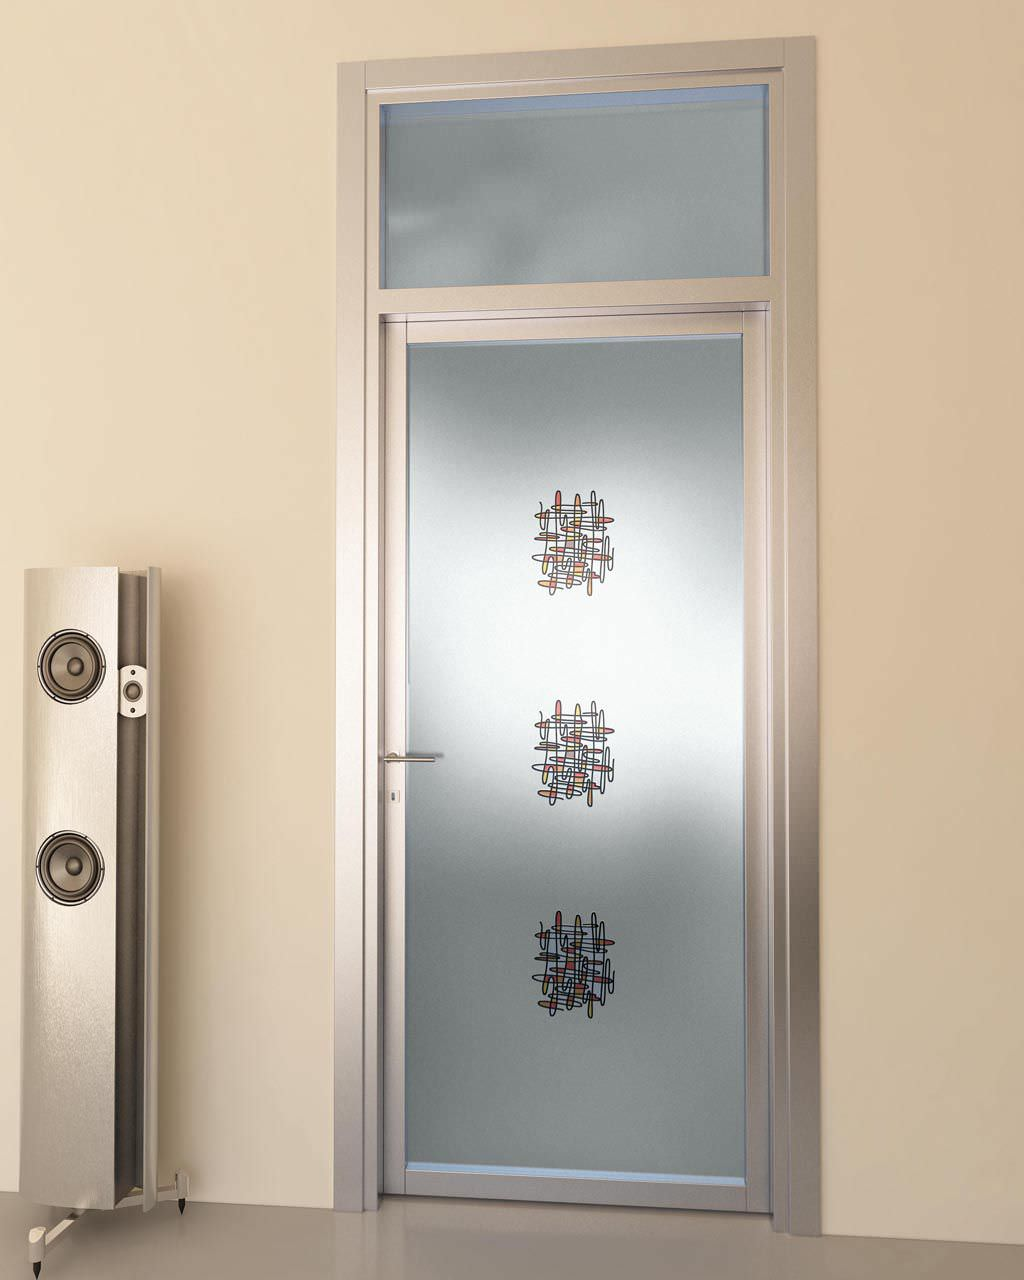door: (383, 308, 779, 1237)
